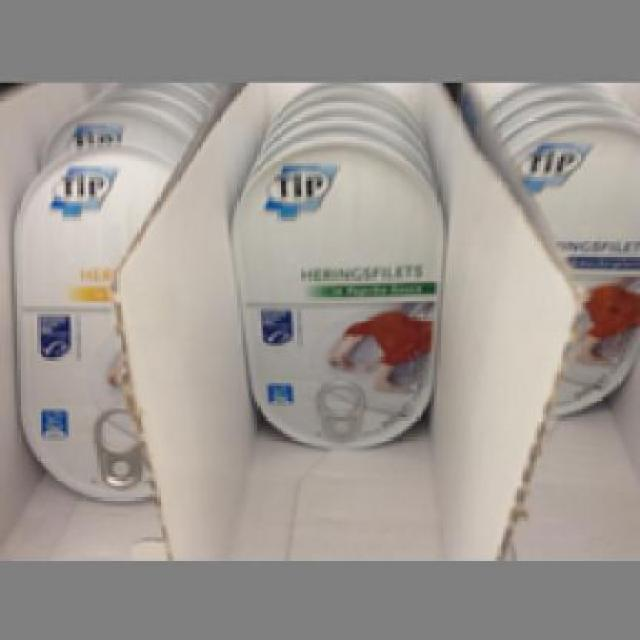Fish: (228, 133, 442, 450), (8, 145, 168, 506), (514, 114, 637, 426)
